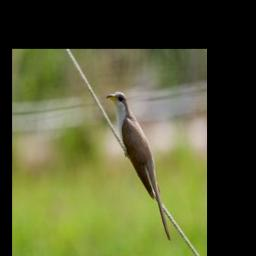Cuckoo: (105, 91, 173, 245)
